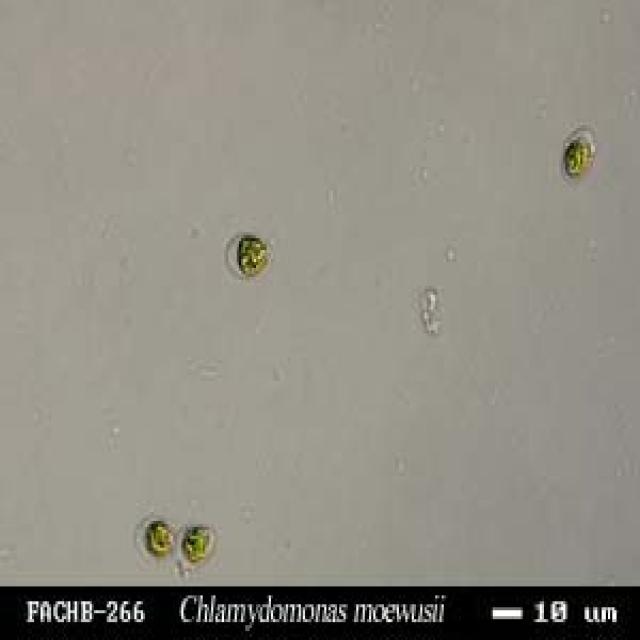Green Algae: (561, 125, 600, 182), (230, 229, 273, 280), (141, 509, 179, 557), (179, 521, 218, 560)
